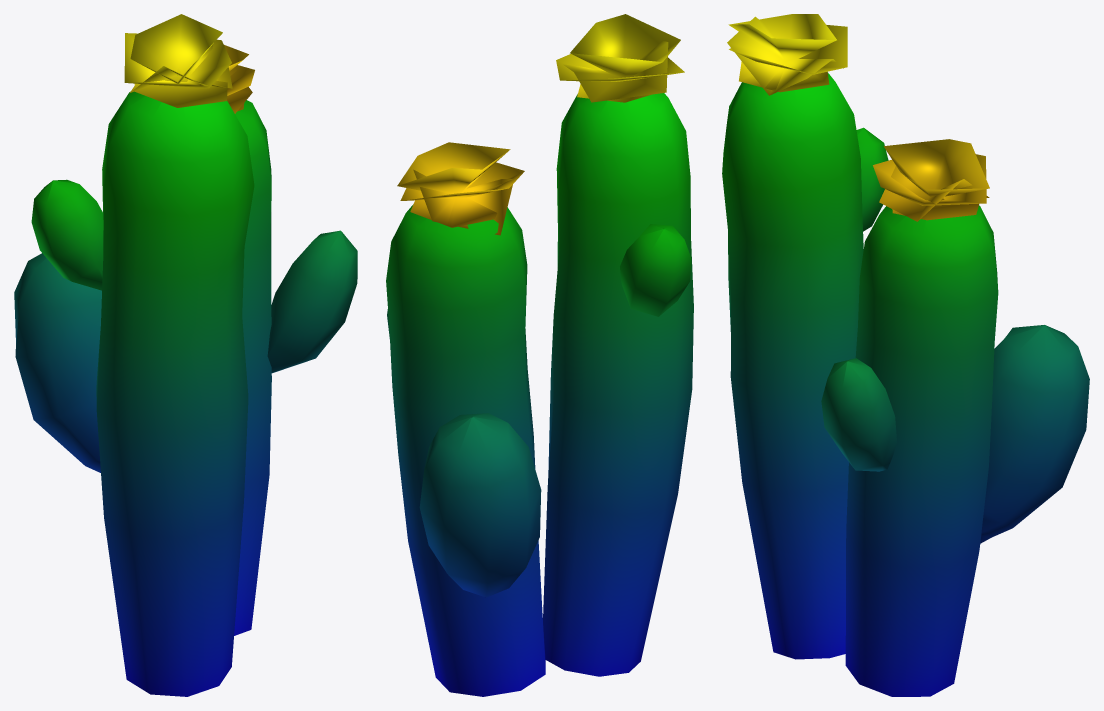
The model's file is Grocactus4.fbx.
3 views of the same model, side by side, from view 1: azimuth 30°, elevation 25°; view 2: azimuth 150°, elevation 25°; view 3: azimuth 270°, elevation 25° (orthographic). The views are drawn at different scales.
Parts seen in each view (by area): view 1: Grocactus4_LOD0; view 2: Grocactus4_LOD0; view 3: Grocactus4_LOD0.
Part boxes in pixels (x1,y1,x2,y2): Grocactus4_LOD0: (14,14,357,696); Grocactus4_LOD0: (386,14,693,696); Grocactus4_LOD0: (722,14,1089,696).
Size of what is drawn, in the model's own units: 197 by 401 by 215.
